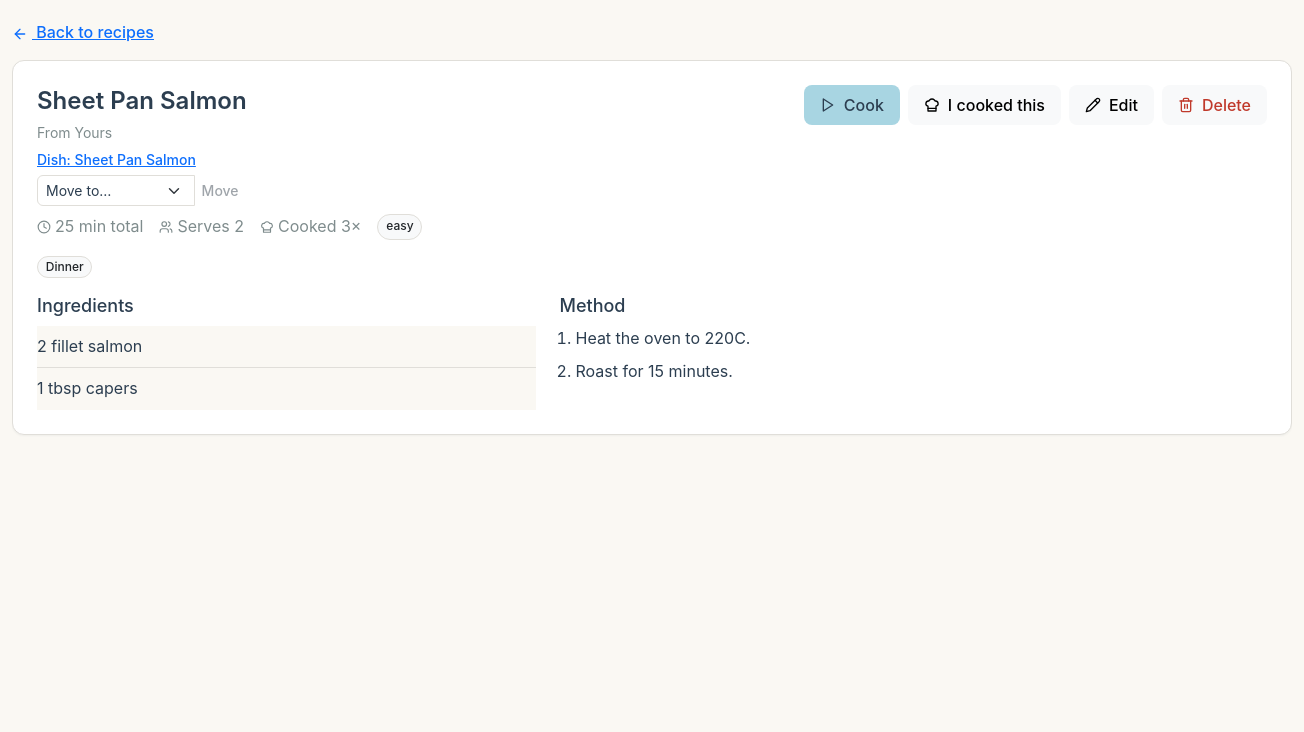
Recipes page — browsing › goes back to the library
The image size is (1304, 732).
Click the button "Back to recipes". click: [83, 32]
box: [12,12,154,52]
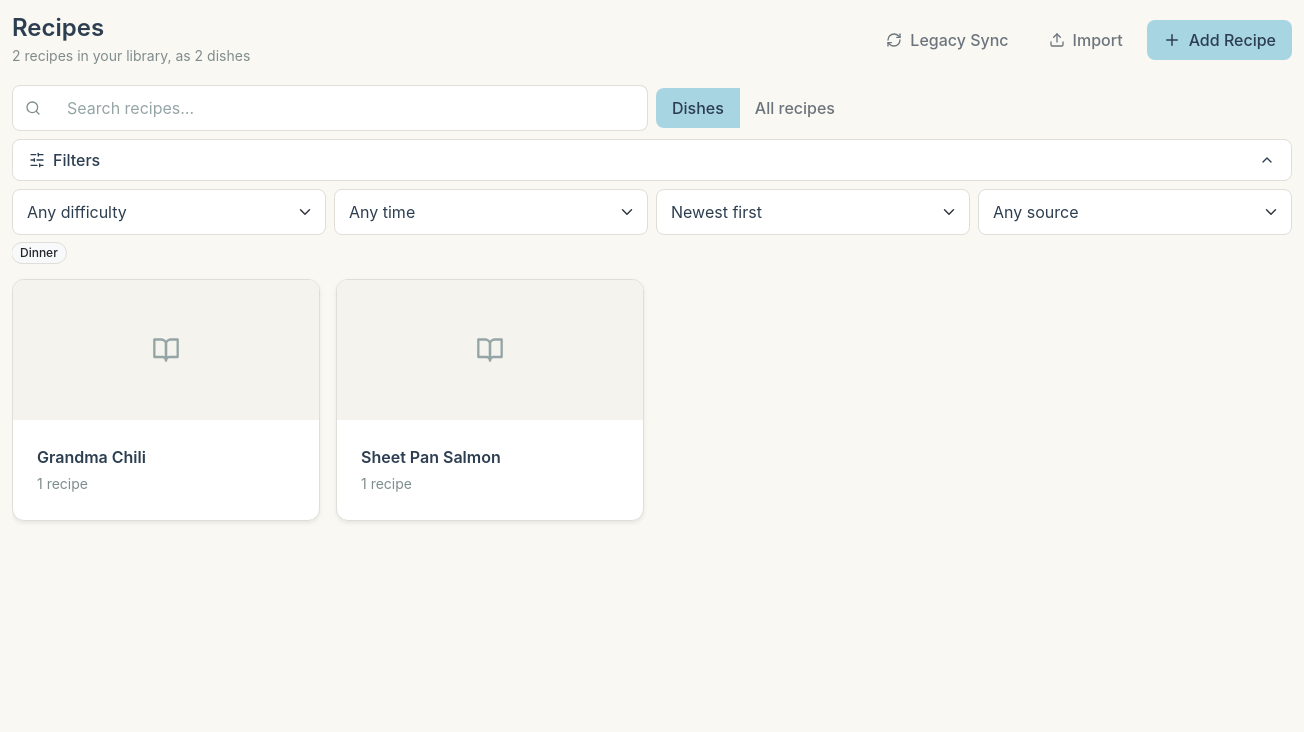
Check: the button "Grandma Chili" is shown, box [37,445,146,469]
